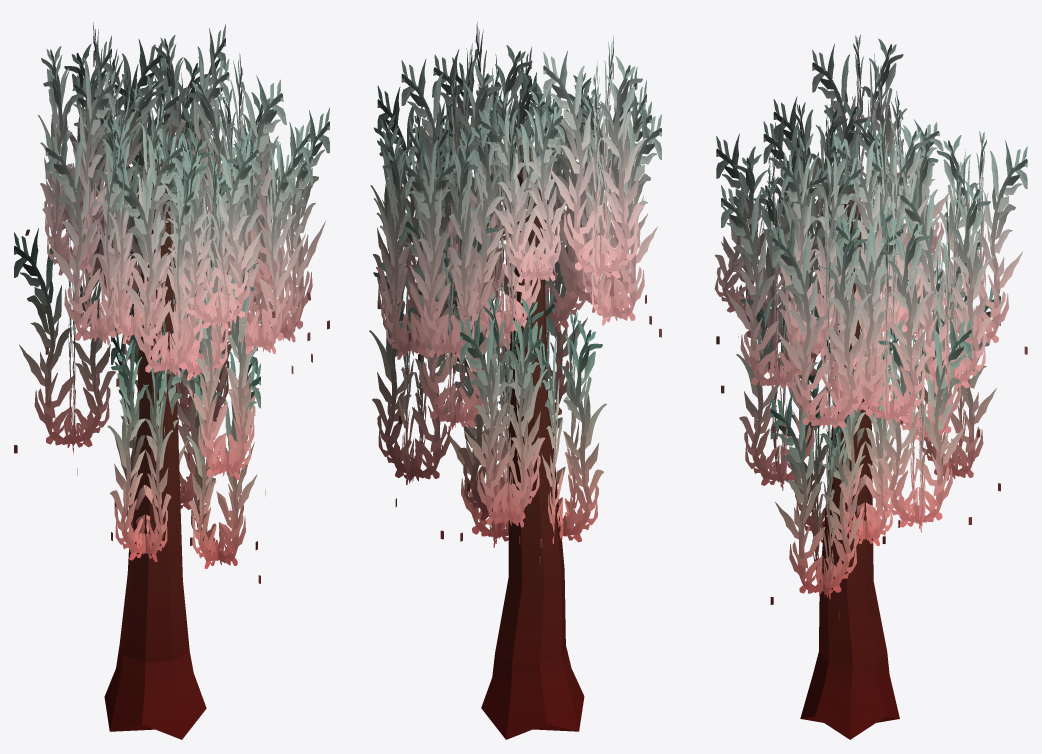
The model's file is synty-tree-willow-small-01.gltf.
The picture shows the model from 3 angles, left to right: view 1: azimuth 30°, elevation 25°; view 2: azimuth 150°, elevation 25°; view 3: azimuth 270°, elevation 25°; orthographic projection. The views are drawn at different scales.
Parts seen in each view (by area): view 1: SM_Tree_Willow_Small_01; view 2: SM_Tree_Willow_Small_01; view 3: SM_Tree_Willow_Small_01.
Boxes of the visible parts, bbox=[...] form: SM_Tree_Willow_Small_01: bbox=[14, 22, 329, 739]; SM_Tree_Willow_Small_01: bbox=[369, 22, 661, 739]; SM_Tree_Willow_Small_01: bbox=[714, 34, 1027, 739].
Size of the model in its own units: 2.12 by 4.9 by 2.28.
2 materials, 2 textured.
